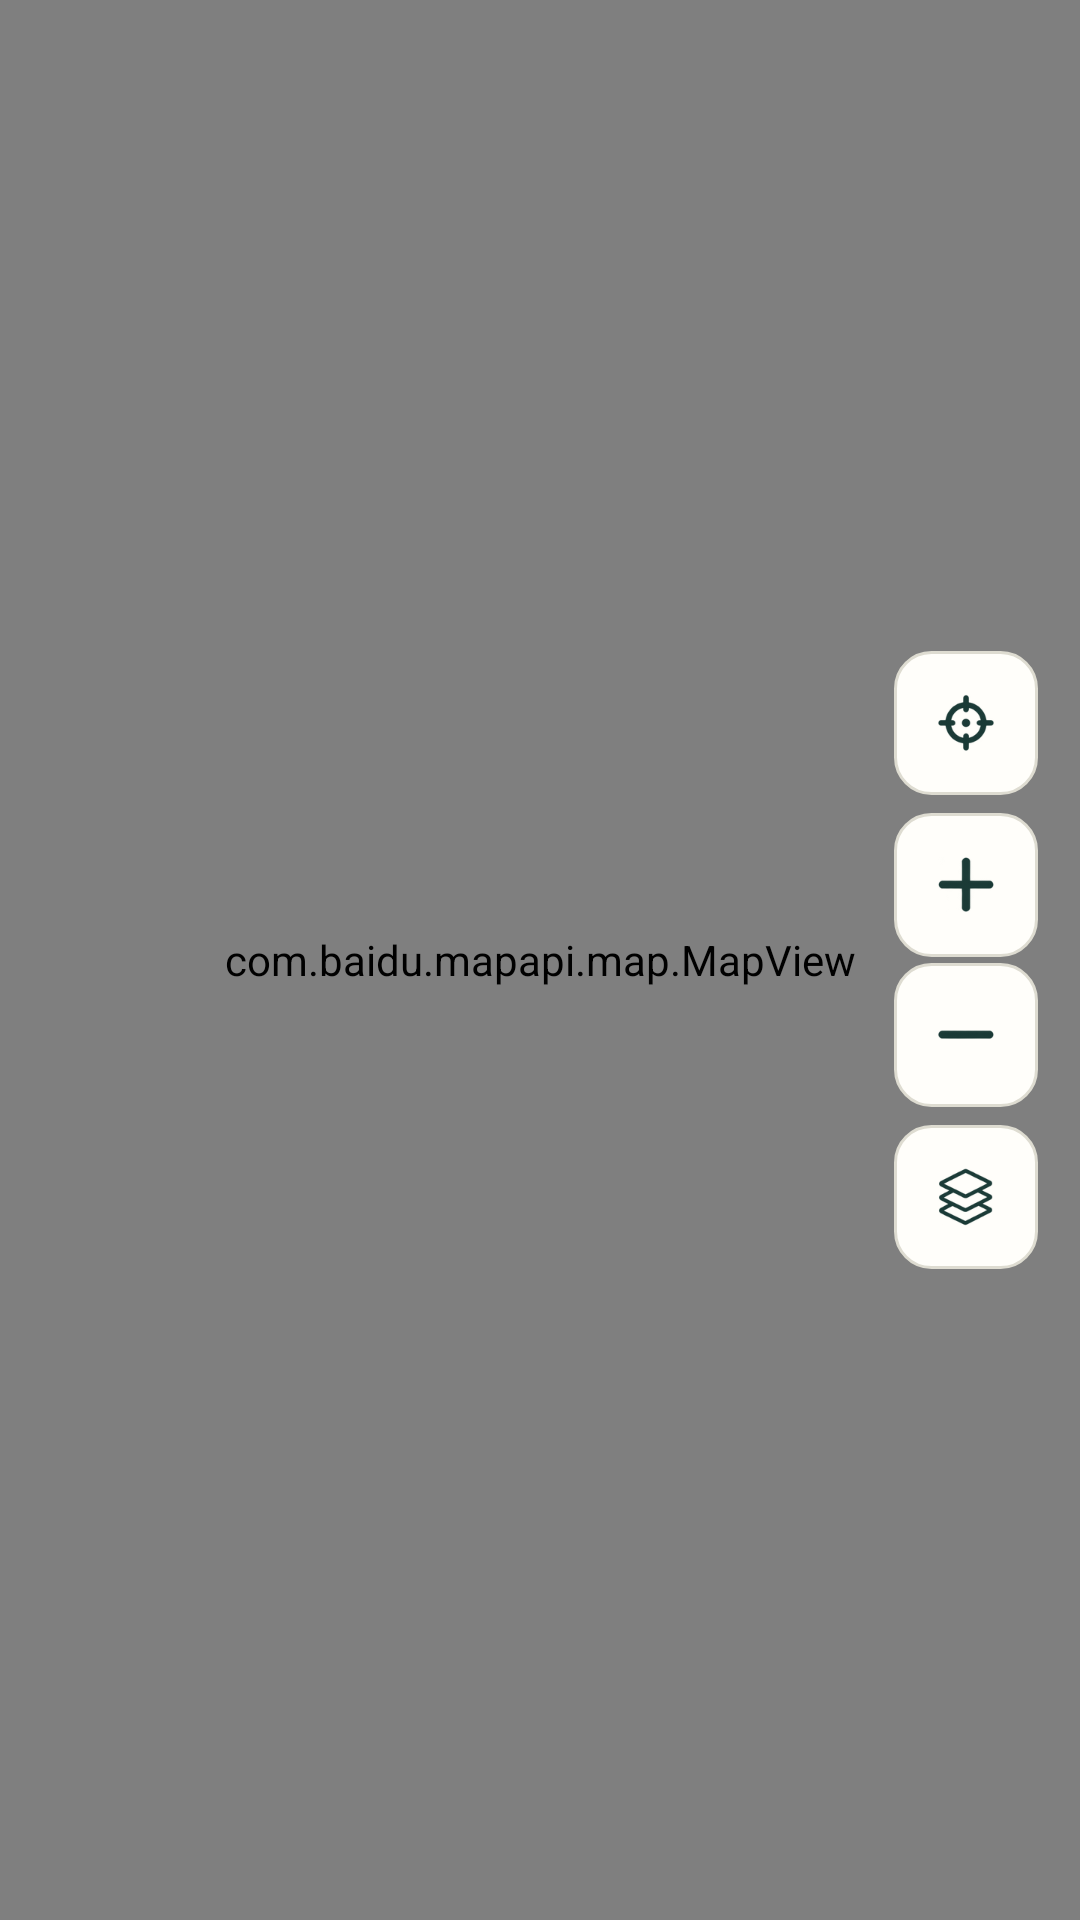

Point at icon controls on the screen. Image size 1080px×1920px, points as (x=x, y=y).
切换地图图层: (x=966, y=1197)
放大: (x=966, y=885)
缩小: (x=966, y=1035)
返回当前位置: (x=966, y=723)
